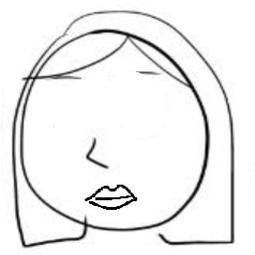cupid_mouth: (78, 180, 142, 213)
eyebrow: (46, 73, 87, 82), (132, 68, 162, 77)
pointy_nose: (82, 136, 111, 171)
